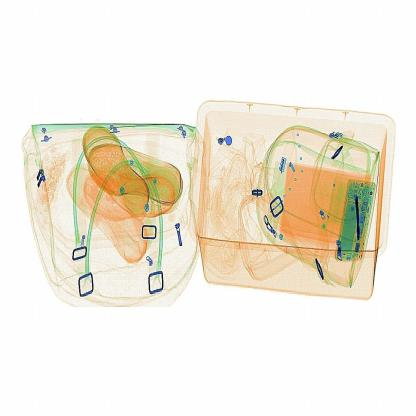knife: (348, 186, 376, 245)
